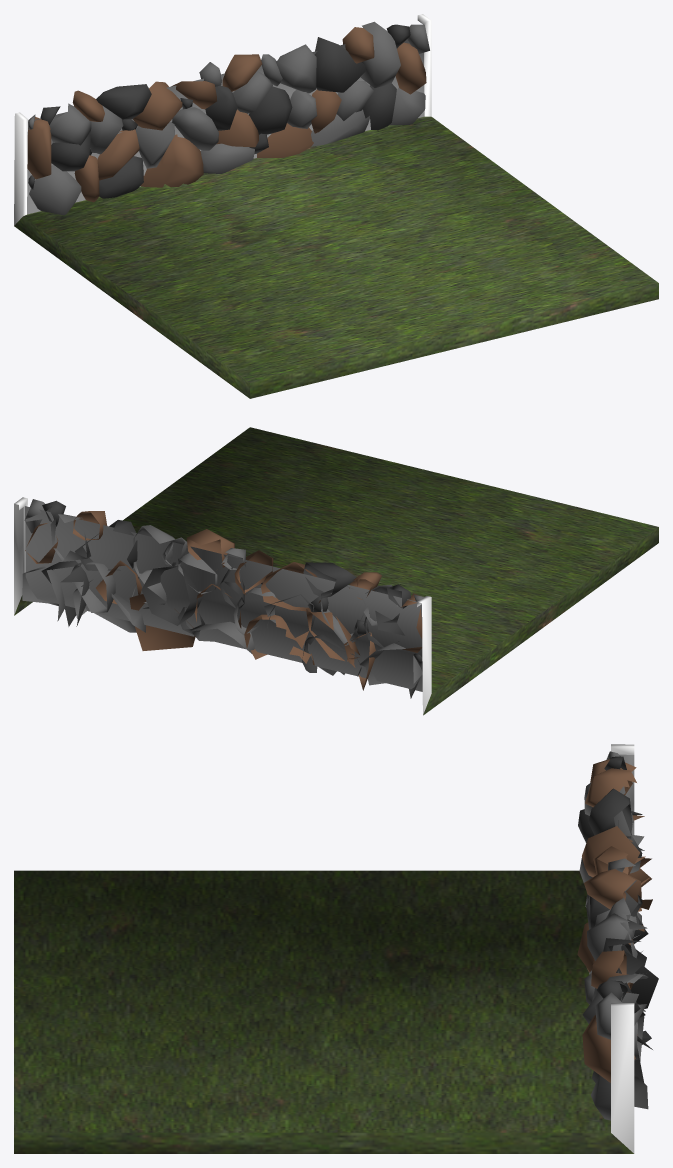
Rendered from rock_wall_test.glb.
3 views of the same model, one above another, from view 1: azimuth 30°, elevation 25°; view 2: azimuth 150°, elevation 25°; view 3: azimuth 270°, elevation 25° (orthographic). The views are drawn at different scales.
Parts seen in each view (by area): view 1: REAL_rock; view 2: REAL_rock; view 3: REAL_rock.
Boxes of the visible parts, x1,y1,x2,y2 form: REAL_rock: [14, 14, 658, 398]; REAL_rock: [14, 427, 658, 715]; REAL_rock: [14, 744, 658, 1153].
Bounding box in the file's own units: 8 × 2.4 × 8.32.
Materials: 6 (1 with a texture image).
